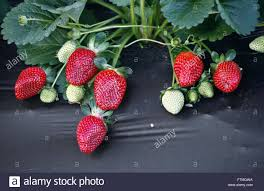ripe: (92, 67, 127, 112), (75, 112, 108, 154), (65, 46, 99, 84), (12, 64, 46, 101), (172, 49, 204, 88), (213, 58, 241, 92)
unripe: (161, 86, 184, 115), (56, 36, 78, 63), (65, 83, 86, 106), (197, 80, 215, 98), (40, 85, 55, 103), (186, 88, 198, 104)
